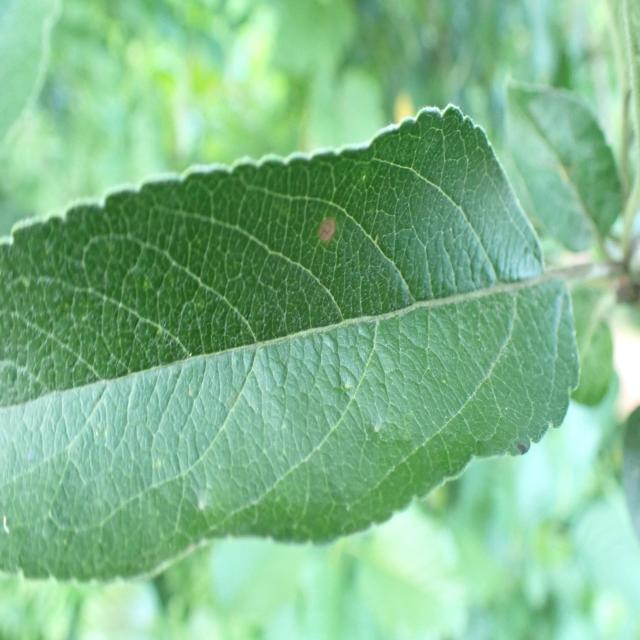Black Rot: (314, 202, 348, 284)
